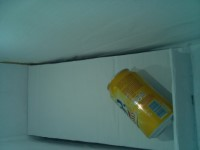kaleng: (107, 67, 174, 138)
